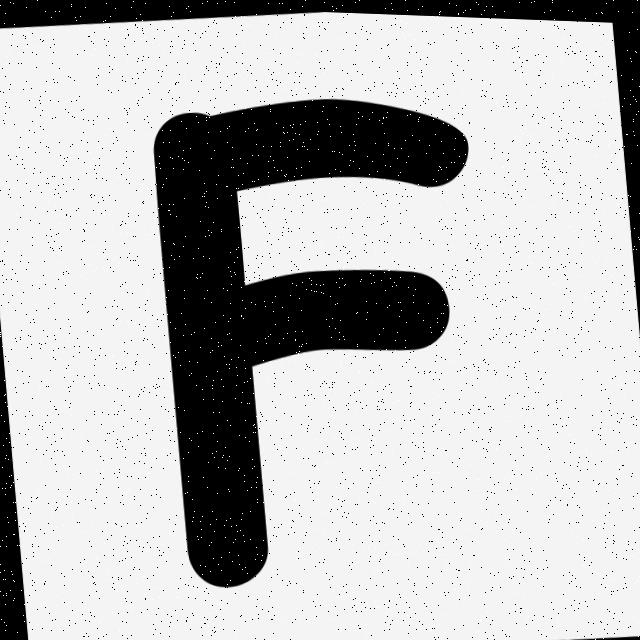F: (154, 96, 467, 584)
